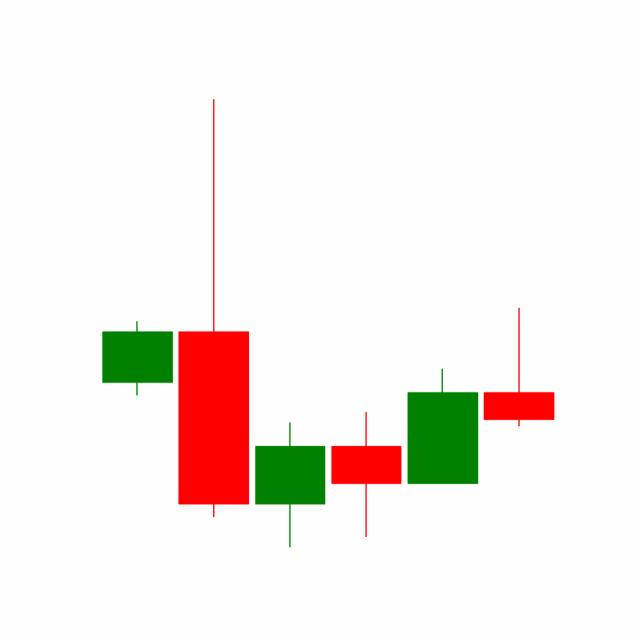Marubozu: (403, 366, 481, 485)
